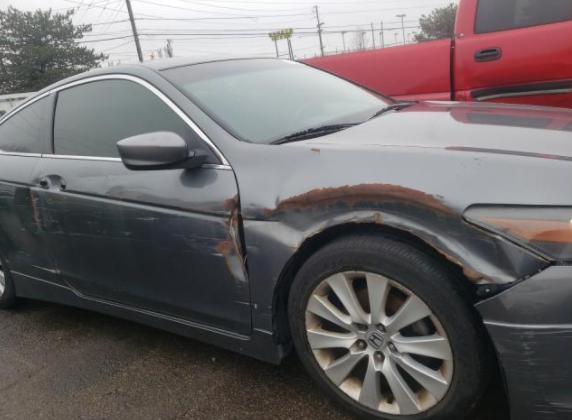Back-door: (0, 91, 73, 290)
Back-wheel: (0, 255, 37, 312)
Back-window: (0, 94, 49, 154)
Fender: (223, 142, 571, 334)
Front-bumper: (475, 266, 572, 420)
Front-door: (29, 73, 253, 341)
Front-wheel: (285, 233, 494, 420)
Front-window: (53, 79, 224, 165)
Headlight: (462, 204, 572, 266)
Hood: (282, 100, 571, 161)
Mirror: (117, 130, 208, 171)
Rocker-panel: (9, 269, 282, 365)
Roof: (120, 53, 290, 73)
Windshield: (158, 59, 396, 145)
